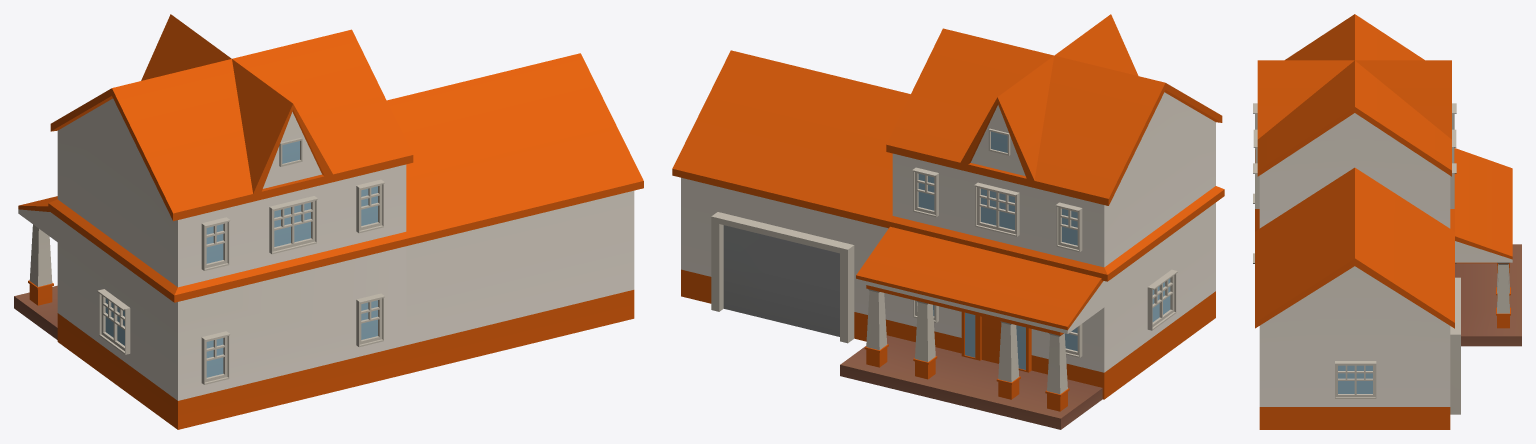
Rendered from house1.fbx.
3 renders of one model, left to right at view 1: azimuth 30°, elevation 25°; view 2: azimuth 150°, elevation 25°; view 3: azimuth 270°, elevation 25°, orthographic. The views are drawn at different scales.
Visible parts, largest first — view 1: House_1; view 2: House_1; view 3: House_1.
Boxes of the visible parts, bbox=[...] form: House_1: bbox=[14, 14, 643, 429]; House_1: bbox=[672, 14, 1224, 429]; House_1: bbox=[1253, 14, 1521, 429].
Size of the model in its own units: 2051 by 1247 by 1281.
1 material, 1 textured.
